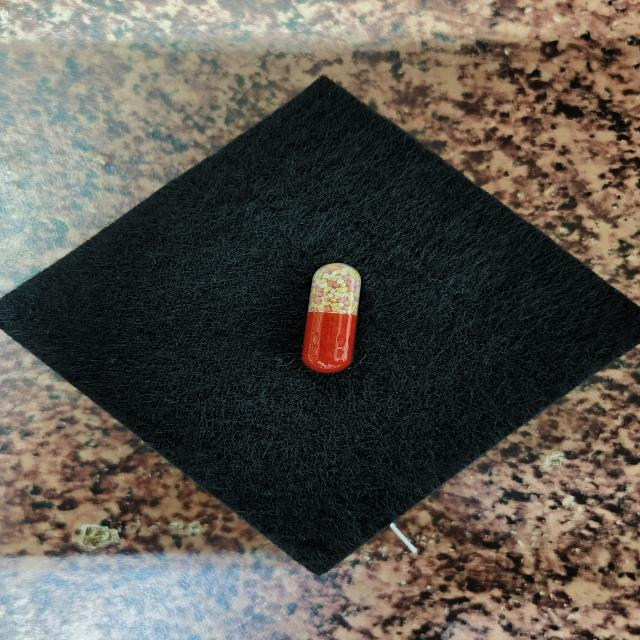Intact Capsule: (302, 263, 361, 373)
